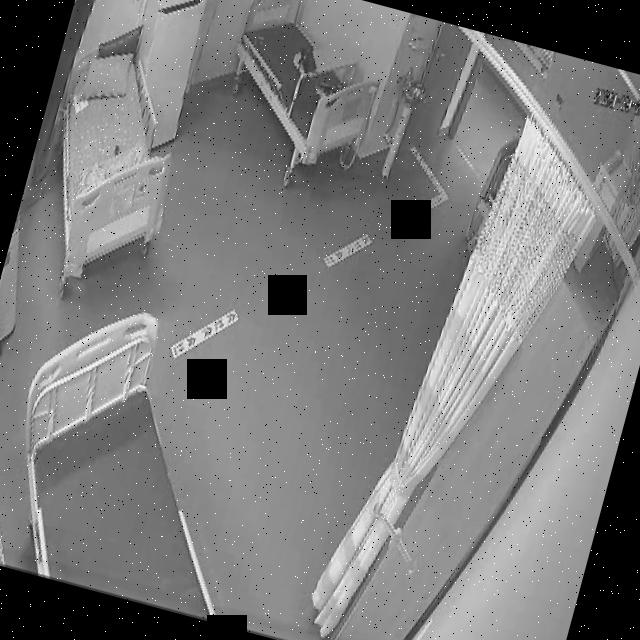bed: (0, 289, 288, 621), (23, 23, 207, 280), (209, 0, 398, 178)
